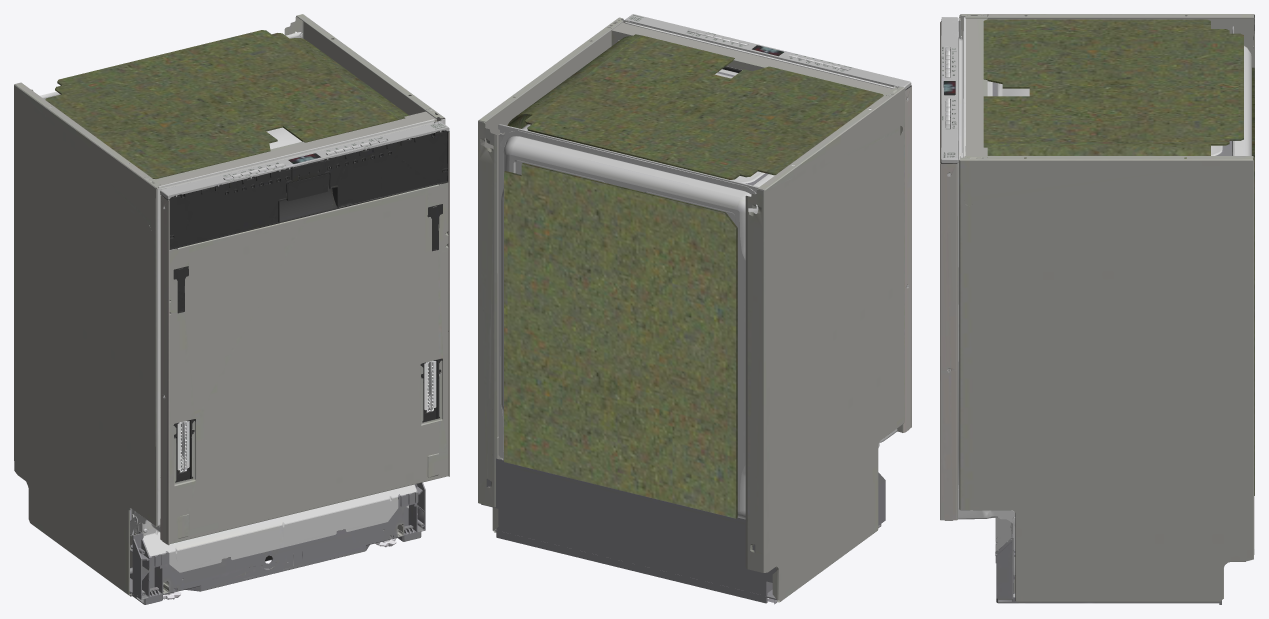
The picture shows the model from 3 angles, left to right: view 1: azimuth 30°, elevation 25°; view 2: azimuth 150°, elevation 25°; view 3: azimuth 270°, elevation 25°; orthographic projection. The views are drawn at different scales.
Parts seen in each view (by area): view 1: 40548088-TORSBODA001; view 2: 40548088-TORSBODA001; view 3: 40548088-TORSBODA001.
Boxes of the visible parts, box(x1,y1,x2,y2) form: 40548088-TORSBODA001: box(14, 14, 449, 604); 40548088-TORSBODA001: box(478, 14, 911, 604); 40548088-TORSBODA001: box(940, 14, 1254, 604).
Size of the model in its own units: 0.6045 by 0.8678 by 0.5505.
2 materials, 2 textured.
